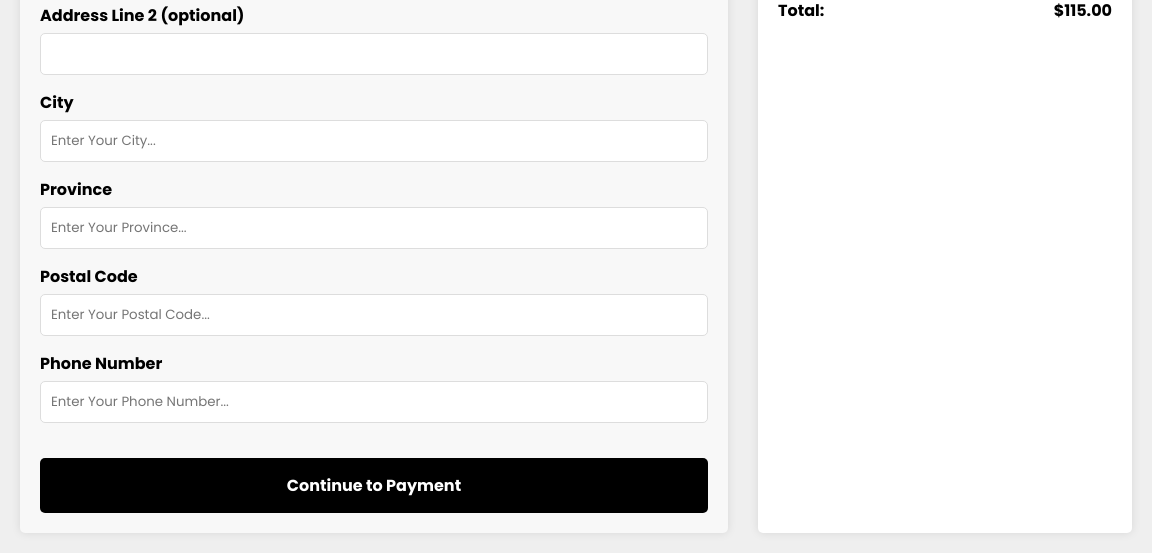
Test case: CheckOut › shows payment form when 'Continue to Payment' button is clicked
(page scrolled)
Click the button "Continue to Payment" at {"x": 374, "y": 486}, box top-left (40, 458), bottom-right (708, 513)
(page scrolled)
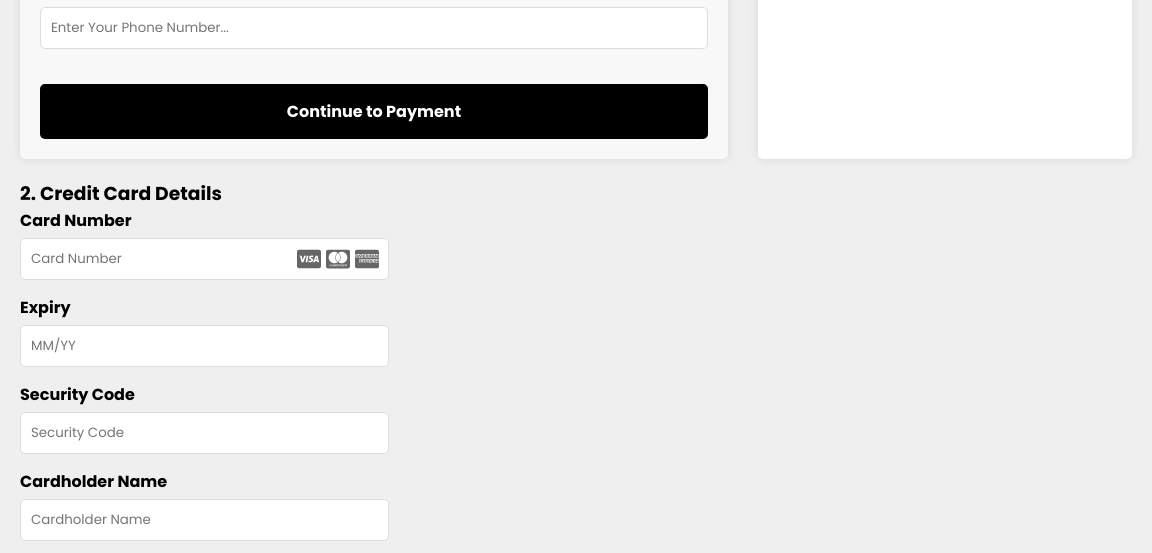
Check: the heading "2. Credit Card Details" is shown, box top-left (20, 180), bottom-right (222, 207)
